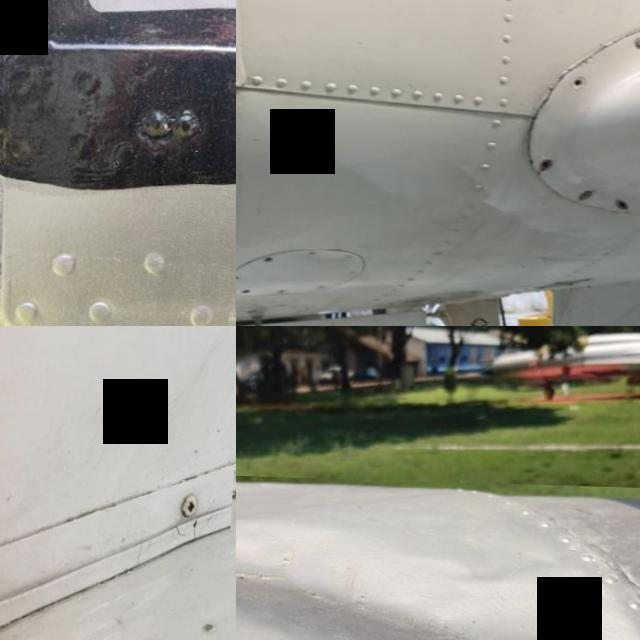Crack: (123, 488, 225, 590), (520, 80, 566, 154), (554, 33, 616, 76)
Dent: (236, 472, 640, 640)
Missing_Fastener: (574, 72, 592, 86), (544, 155, 560, 168), (618, 195, 635, 206), (243, 286, 259, 294), (269, 253, 282, 262)
